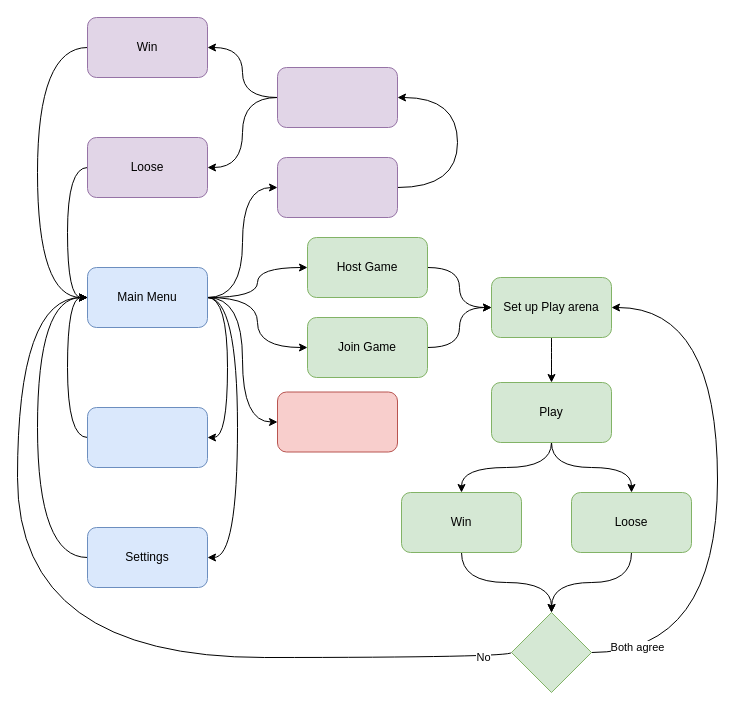
Image size: 735x710. Some labels were removed from this diagram. The shapes that lost their labels are listed below. From the top down, each one's centre as x and y in pixels, then its label:
the point at 337,97: Play Singleplayer
the point at 337,187: New Game
the point at 147,437: Credits
the point at 337,421: Quit
the point at 551,652: Rematch?
